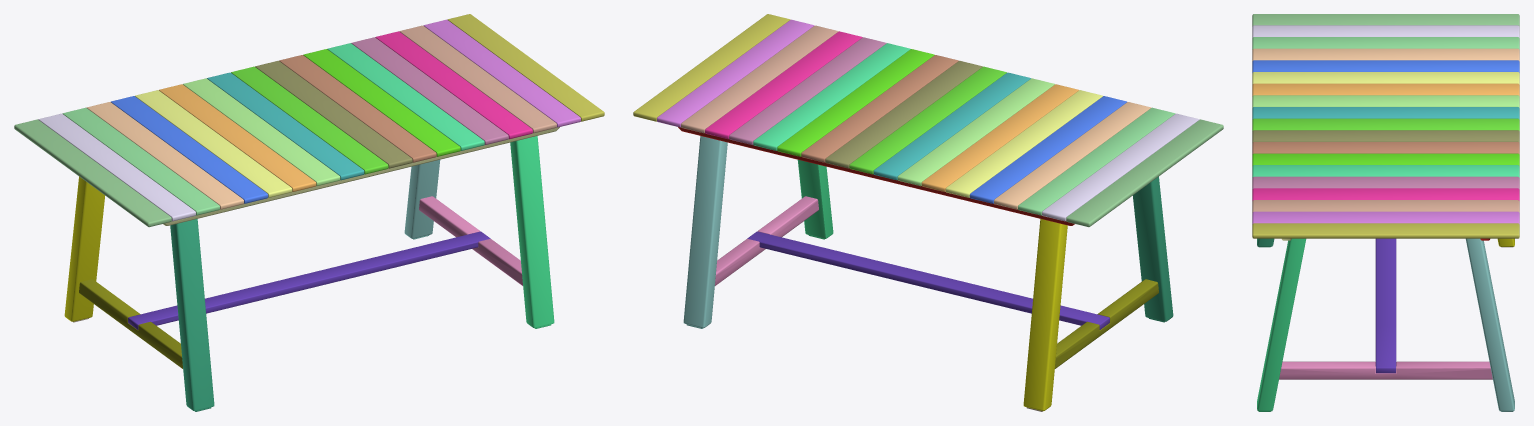
3 views of the same model, side by side, from view 1: azimuth 30°, elevation 25°; view 2: azimuth 150°, elevation 25°; view 3: azimuth 270°, elevation 25° (orthographic).
Parts seen in each view (by area): view 1: split_parent_14, split_parent_15, split_parent_19, Object_3.001, Object_3.021, Object_2.009, Object_3.004, Object_3.002, Object_3.023, Object_3.024, Object_3.025, Object_3.029 (+15 smaller); view 2: Object_3.021, Object_3.010, split_parent_19, Object_3.001, split_parent_14, Object_2.009, Object_3.004, Object_3.002, Object_3.023, Object_3.024, Object_3.025, Object_3.029 (+15 smaller); view 3: Object_3.026, Object_3.008, Object_3.002, Object_3.030, Object_3, Object_3.003, Object_3.023, Object_2.009, Object_3.024, Object_3.032, Object_3.033, Object_2.008 (+11 smaller).
Part boxes in pixels (box(x1,y1,x2,y2)): split_parent_14: box(170, 219, 214, 411); split_parent_15: box(510, 136, 554, 328); split_parent_19: box(128, 231, 490, 329); Object_3.001: box(14, 119, 171, 227); Object_3.021: box(64, 176, 104, 321); Object_2.009: box(38, 113, 195, 221); Object_3.004: box(255, 60, 412, 168); Object_3.002: box(231, 66, 388, 174); Object_3.023: box(351, 37, 508, 144); Object_3.024: box(375, 31, 532, 139); Object_3.025: box(207, 72, 364, 180); Object_3.029: box(327, 43, 484, 150); Object_3.021: box(1023, 219, 1067, 411); Object_3.010: box(683, 136, 727, 328); split_parent_19: box(747, 231, 1109, 329); Object_3.001: box(1066, 119, 1223, 227); split_parent_14: box(1133, 176, 1173, 322); Object_2.009: box(1042, 113, 1199, 221); Object_3.004: box(825, 60, 982, 168); Object_3.002: box(849, 66, 1006, 174); Object_3.023: box(729, 37, 886, 144); Object_3.024: box(705, 31, 862, 139); Object_3.025: box(873, 72, 1030, 180); Object_3.029: box(753, 43, 910, 150); Object_3.026: box(1252, 223, 1519, 238); Object_3.008: box(1279, 361, 1492, 379); Object_3.002: box(1252, 118, 1519, 131); Object_3.030: box(1252, 83, 1519, 96); Object_3: box(1252, 48, 1519, 61); Object_3.003: box(1252, 211, 1519, 224); Object_3.023: box(1252, 176, 1519, 189); Object_2.009: box(1252, 25, 1519, 37); Object_3.024: box(1252, 188, 1519, 200); Object_3.032: box(1252, 153, 1519, 165); Object_3.033: box(1252, 142, 1519, 154); Object_2.008: box(1252, 60, 1519, 72).
Bounding box in the file's own units: 1 × 0.4259 × 0.5103.
